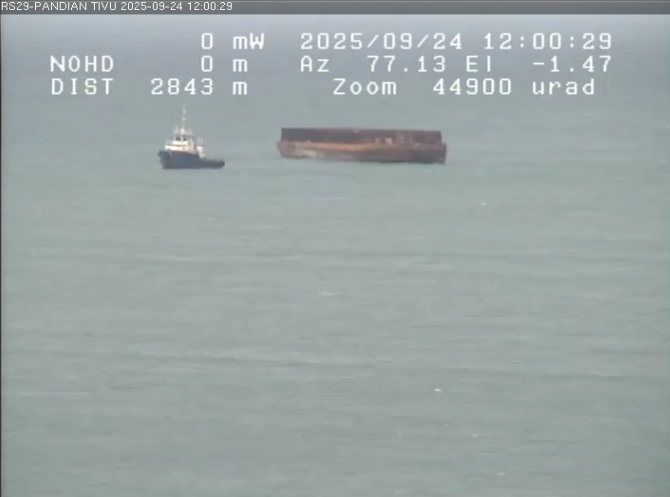BARGE: (259, 91, 472, 191)
OFFSHORE_SUPPLY_VESSEL: (144, 93, 238, 189)
TOWING: (119, 71, 534, 224)
